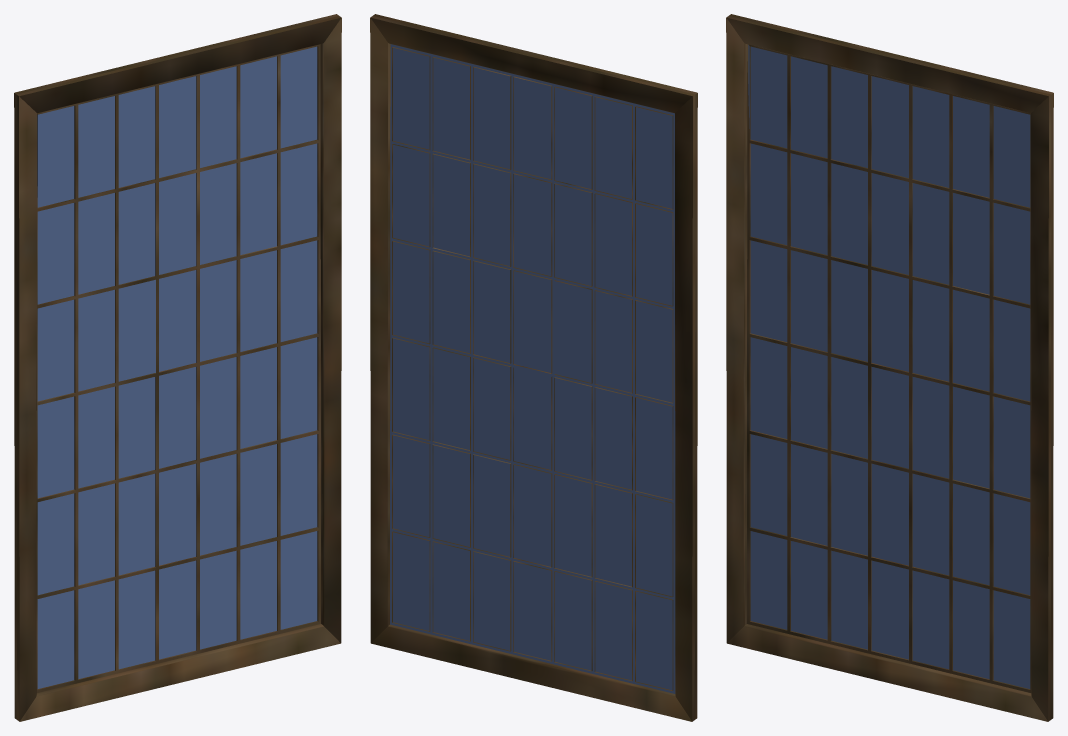
Rendered from sash-window.obj.
3 views of the same model, side by side, from view 1: azimuth 30°, elevation 25°; view 2: azimuth 150°, elevation 25°; view 3: azimuth 330°, elevation 25° (orthographic).
Parts seen in each view (by area): view 1: Plane, Line040; view 2: Plane.001_Plane.004, Line040, Plane; view 3: Plane, Line040.
Boxes of the visible parts, x1,y1,x2,y2 form: Plane: (37, 46, 317, 688); Line040: (14, 14, 341, 721); Plane.001_Plane.004: (390, 45, 675, 693); Line040: (370, 14, 697, 721); Plane: (390, 44, 674, 114); Plane: (748, 45, 1030, 688); Line040: (726, 14, 1053, 721).
Size of the model in its own units: 112 by 207 by 2.94.
